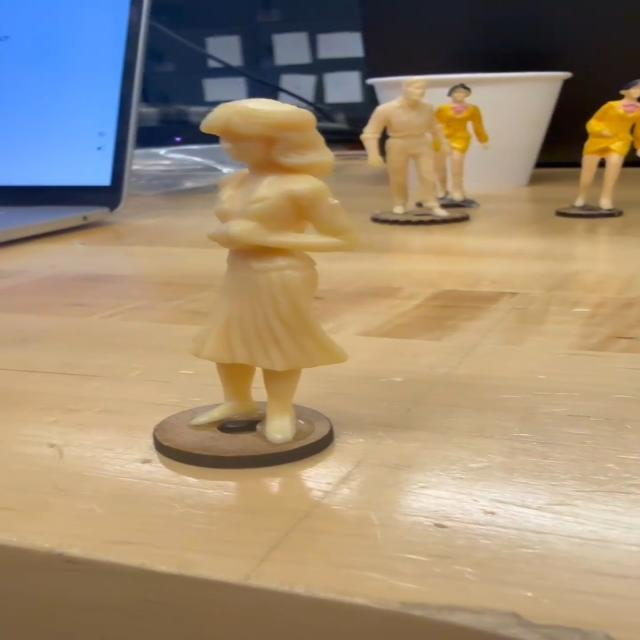Unauthorized: (196, 95, 350, 445)
